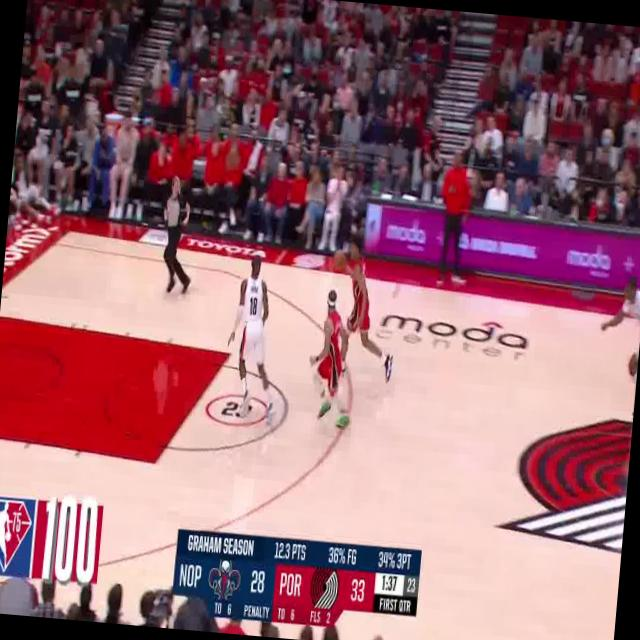ball-handler: (322, 230, 404, 385)
